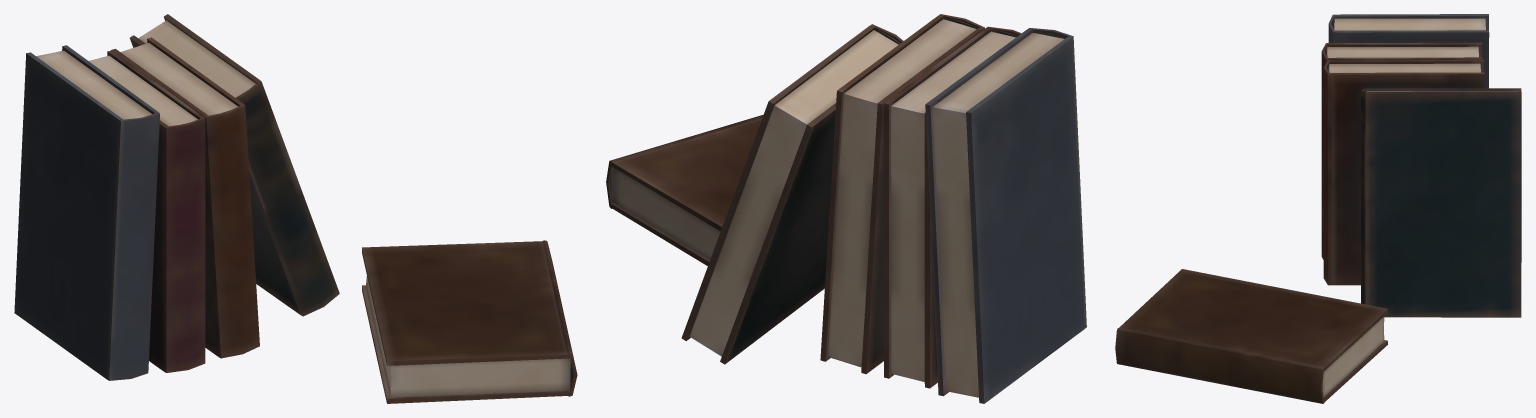
Rendered from book-pile-b.lod1.glb.
The picture shows the model from 3 angles, left to right: view 1: azimuth 30°, elevation 25°; view 2: azimuth 150°, elevation 25°; view 3: azimuth 270°, elevation 25°; orthographic projection. The views are drawn at different scales.
Visible parts, largest first — view 1: book-pile-b; view 2: book-pile-b; view 3: book-pile-b.
Boxes of the visible parts, x1,y1,x2,y2 form: book-pile-b: (14,14,577,403); book-pile-b: (606,14,1086,403); book-pile-b: (1115,14,1521,403).
Bounding box in the file's own units: 0.4392 × 0.2494 × 0.4214.
Materials: 1 (1 with a texture image).
